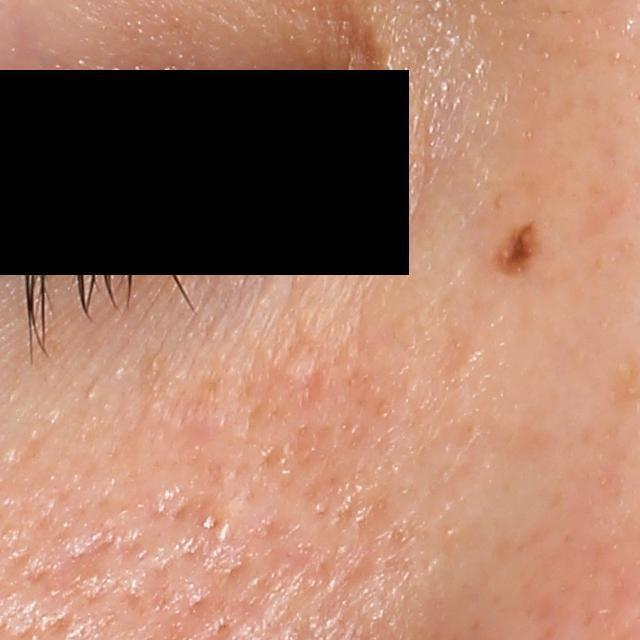melasma: (488, 225, 545, 281)
